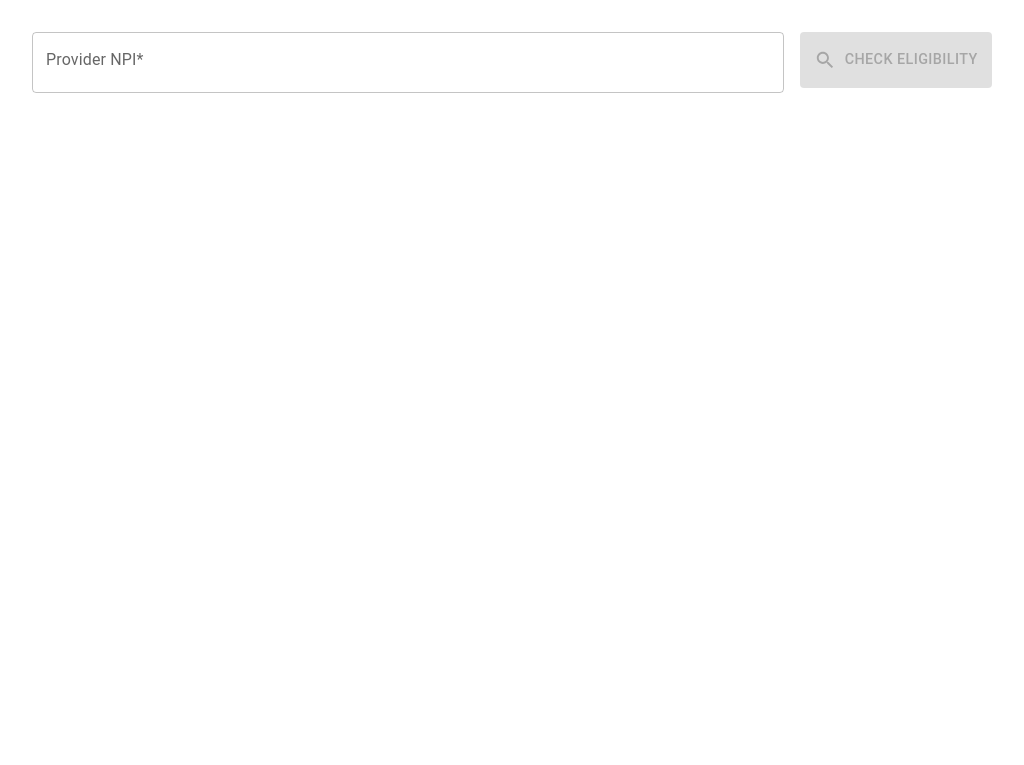
Test case: NPISearch Component › handles invalid provider type
Type "1104025329" into the field labelled "Provider NPI*" at (408, 62), box [32,32,784,93]
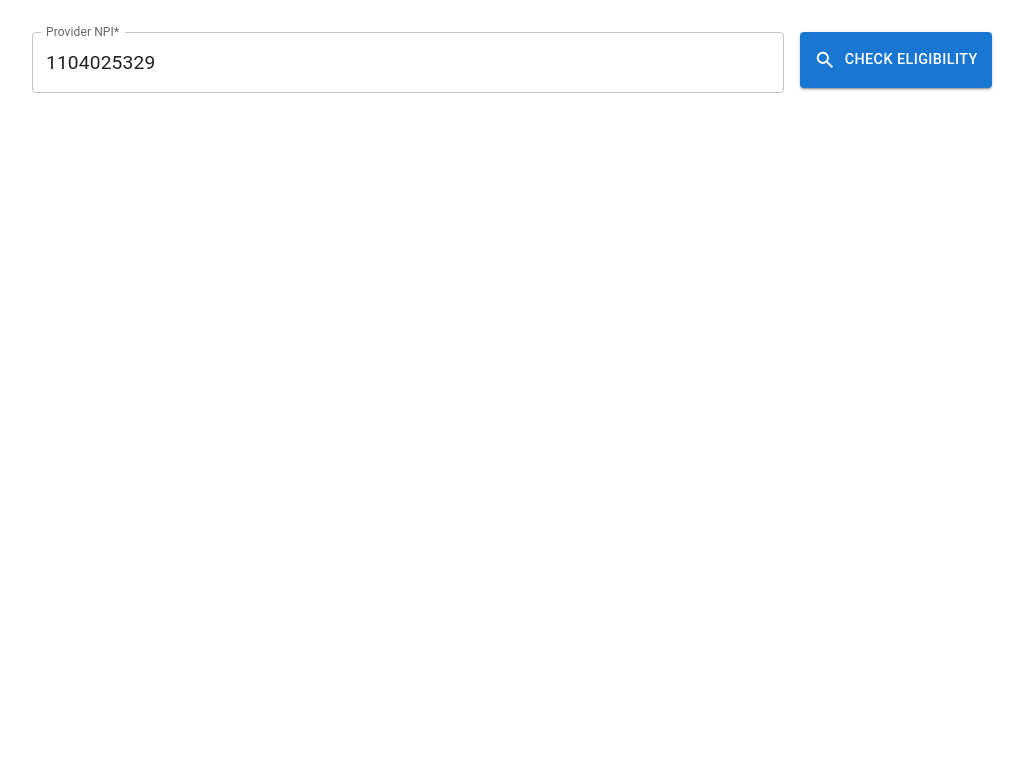
Click the button "Check Eligibility" at (896, 60), box [800,32,992,88]
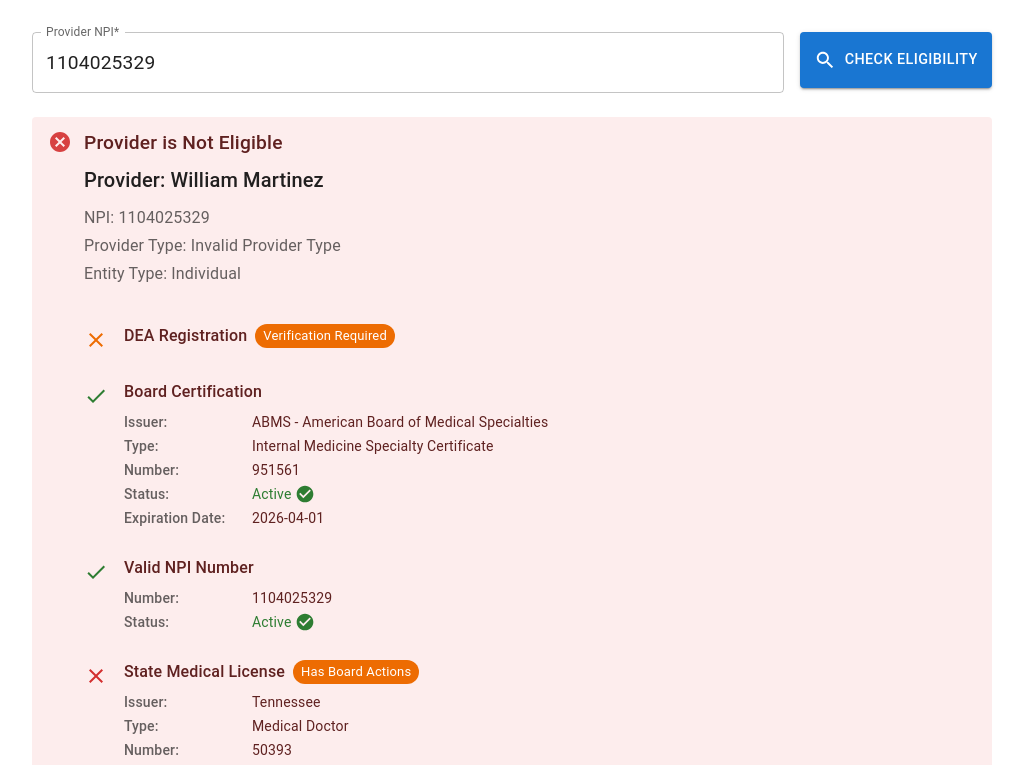
Expected: the text "Provider is Not Eligible" is shown, [84,131,283,154]
Expected: the heading "Provider Type: Invalid Provider Type" is shown, [84,236,341,255]
